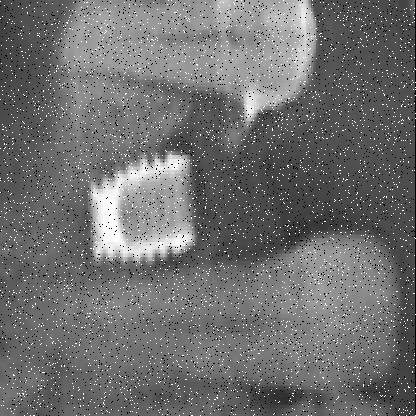Bicon: (84, 148, 204, 282)
